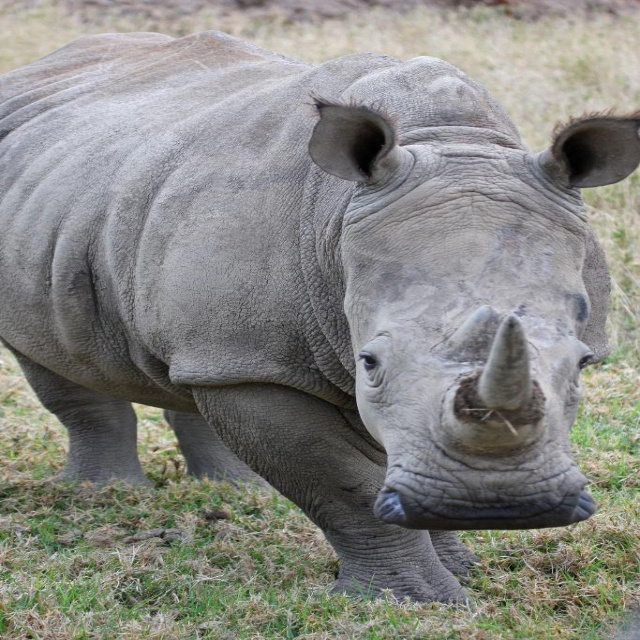Rhinoceros: (0, 26, 638, 606)
